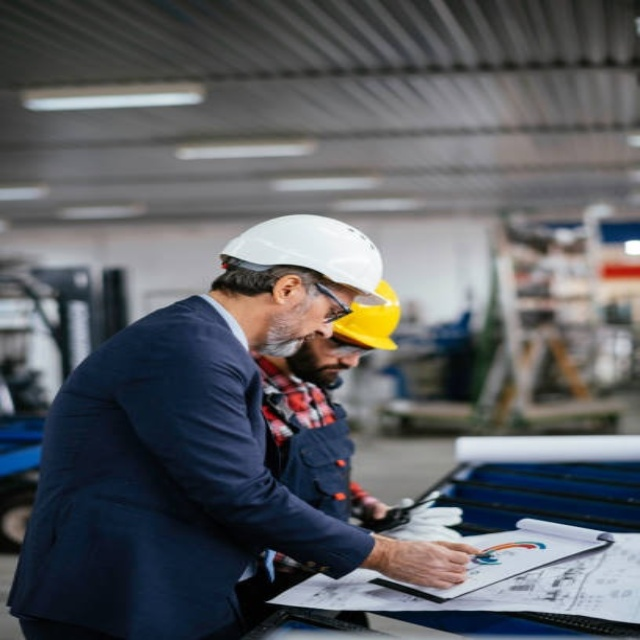Gafas: (308, 279, 356, 325), (330, 331, 377, 353)
Sin_guantes: (372, 531, 472, 592)
Sin_mascara: (262, 332, 322, 359), (314, 362, 361, 388)
